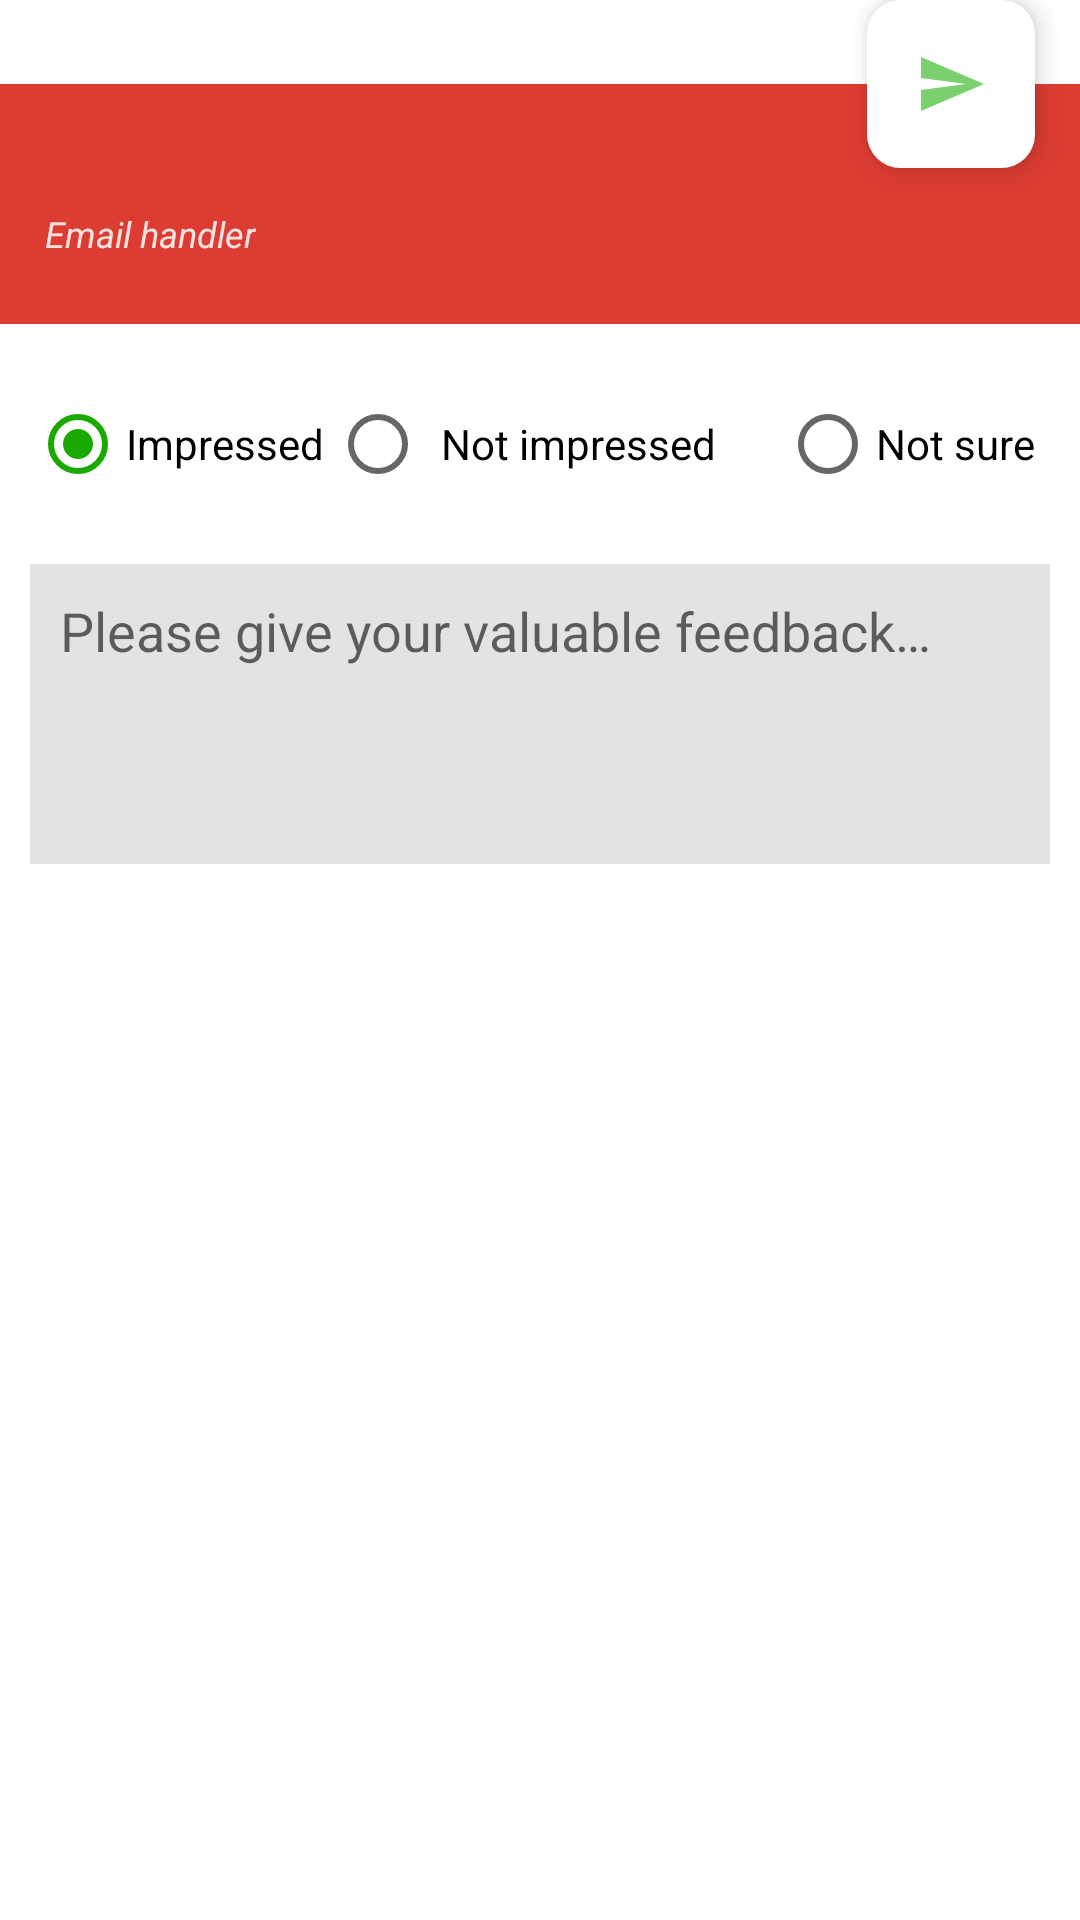

Where icons sit on this 1080x1920 app screen, as (x1, y1, x2, y2):
send: (867, 0, 1035, 168)
